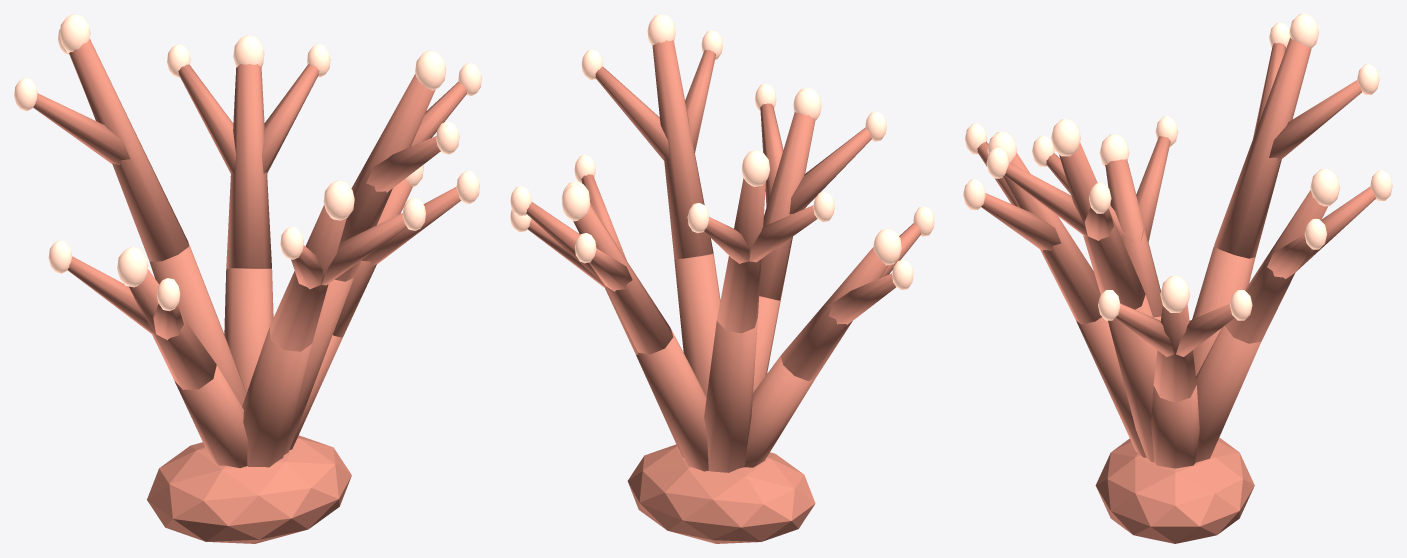
File: coral.glb
3 views of the same model, side by side, from view 1: azimuth 30°, elevation 25°; view 2: azimuth 150°, elevation 25°; view 3: azimuth 270°, elevation 25° (orthographic). The views are drawn at different scales.
Parts seen in each view (by area): view 1: coral; view 2: coral; view 3: coral.
Part boxes in pixels (x1,y1,x2,y2): coral: (14,14,481,543); coral: (510,14,934,543); coral: (963,14,1392,543).
Size of the model in its own units: 1.9 by 2.25 by 1.89.
